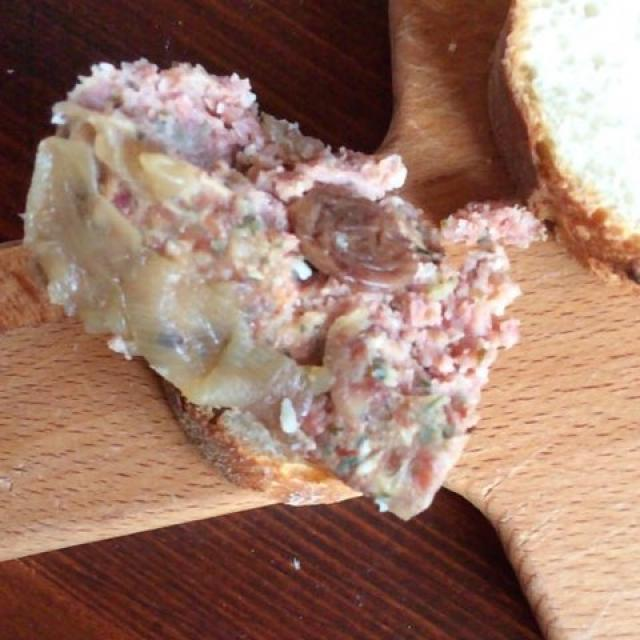meat-terrine-pate: (38, 77, 522, 510)
